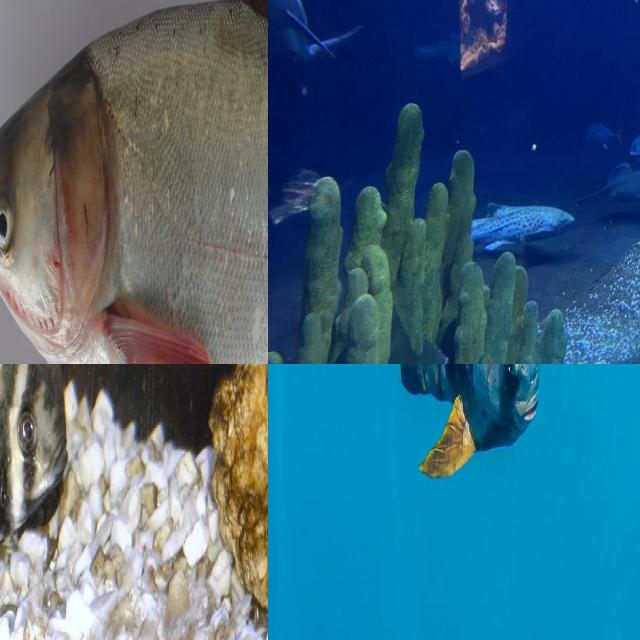fish: (0, 0, 268, 364), (268, 364, 507, 549)
